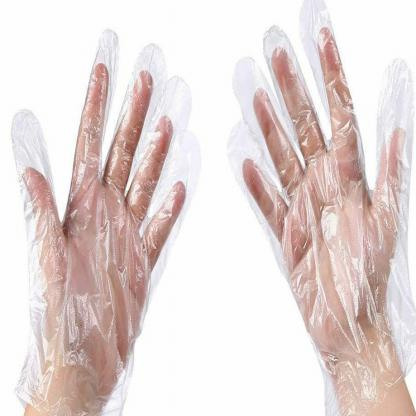with_gloves: (220, 36, 416, 407), (12, 42, 188, 405)
